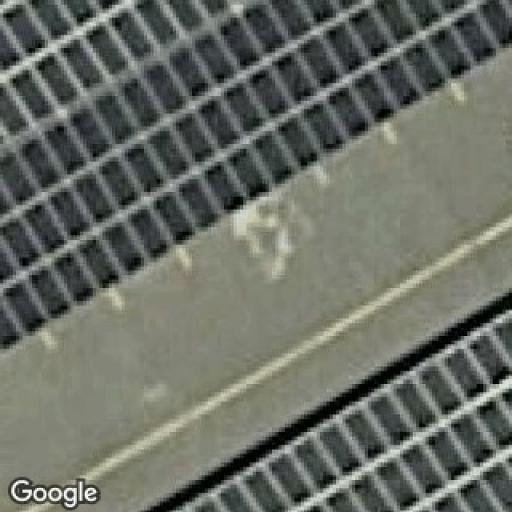solar-panel: (0, 2, 512, 354), (145, 317, 512, 512)
